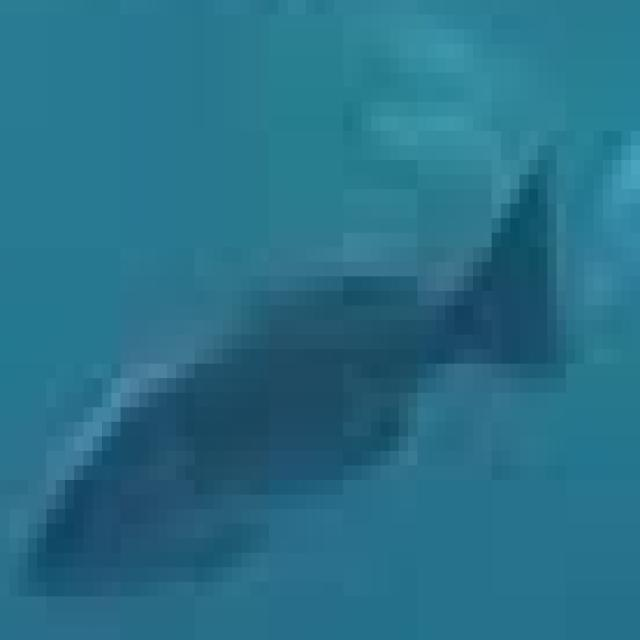fish: (1, 14, 631, 640)
